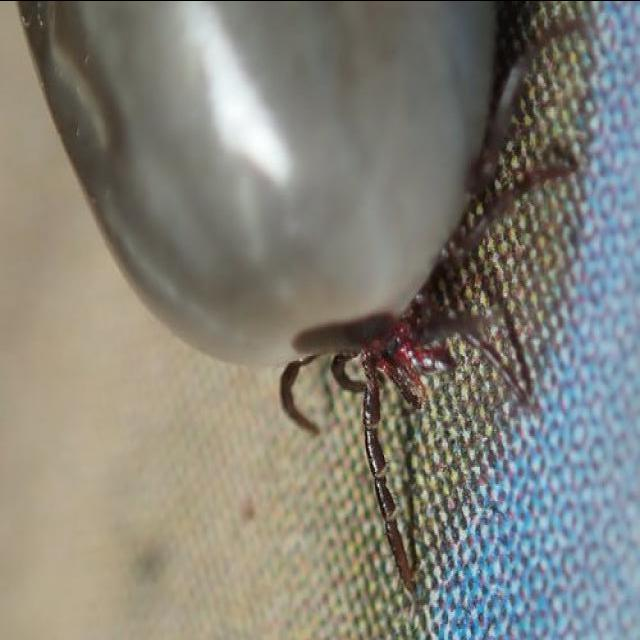Ixodes Ricinus-F-Fed: (15, 0, 580, 594)
